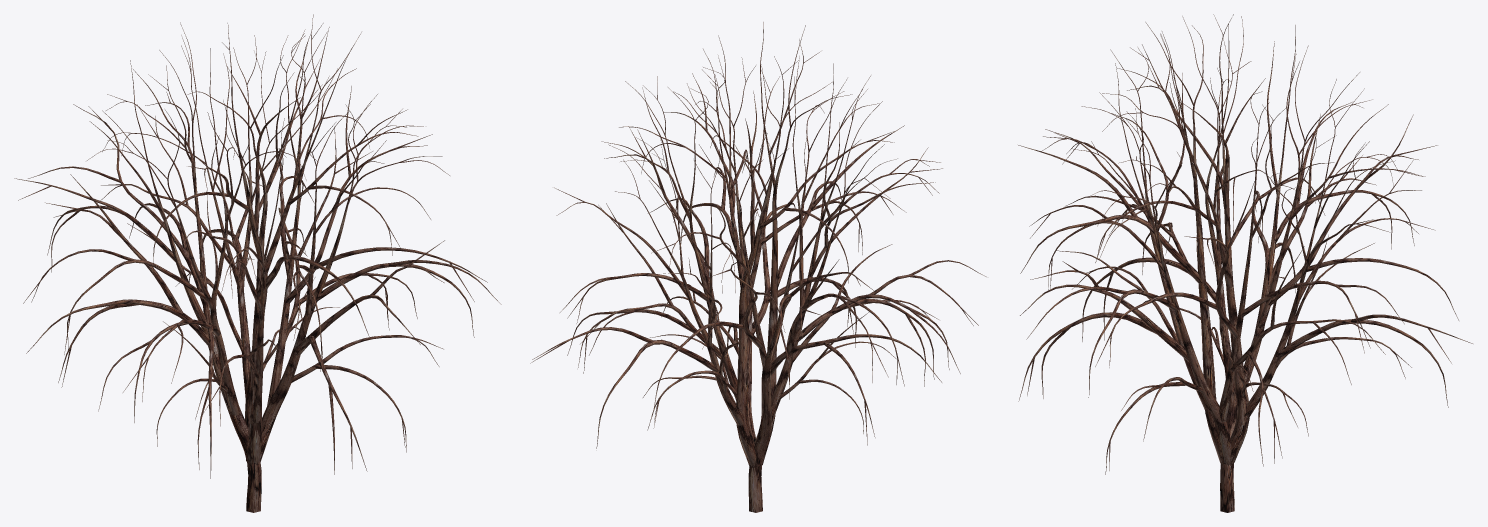
The model's file is tree.glb.
3 views of the same model, side by side, from view 1: azimuth 30°, elevation 25°; view 2: azimuth 150°, elevation 25°; view 3: azimuth 270°, elevation 25° (orthographic). The views are drawn at different scales.
Visible parts, largest first — view 1: tree; view 2: tree; view 3: tree.
Boxes of the visible parts, x1=… form: tree: x1=14, y1=14, x2=501, y2=512; tree: x1=530, y1=22, x2=986, y2=512; tree: x1=1018, y1=14, x2=1472, y2=512.
Size of the model in its own units: 5.41 by 6.48 by 5.47.
1 material, 1 textured.
